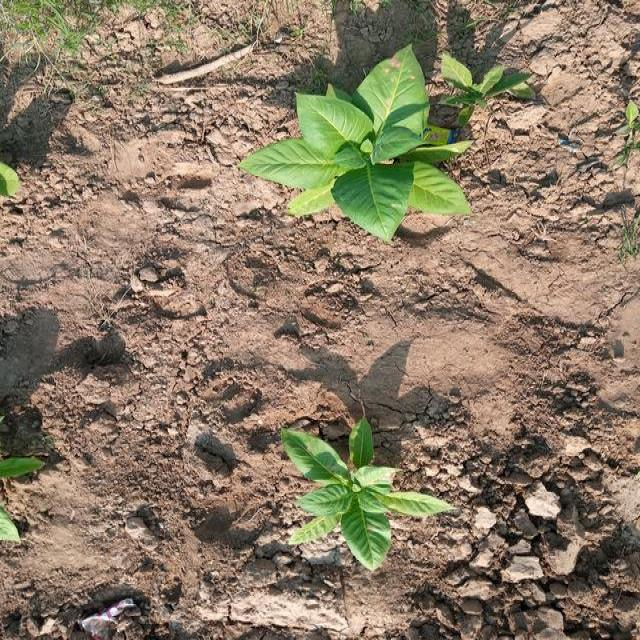crop: (238, 46, 476, 244), (282, 416, 453, 566)
